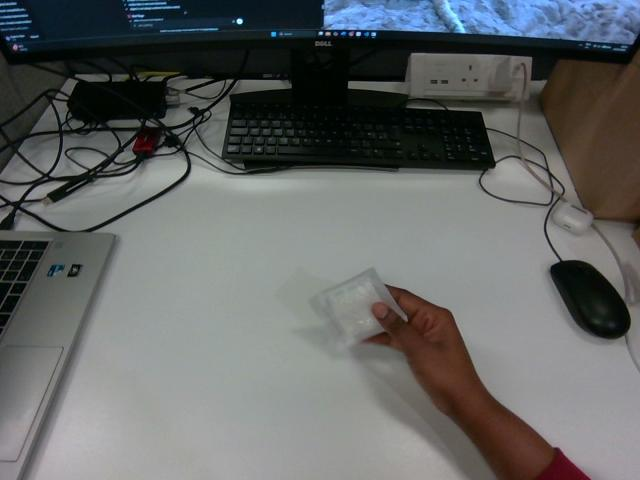gauze: (310, 268, 406, 346)
